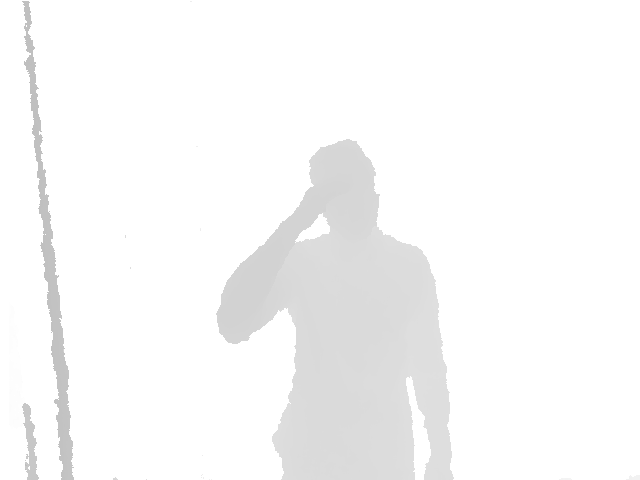head: (309, 139, 380, 243)
person: (214, 138, 455, 480)
